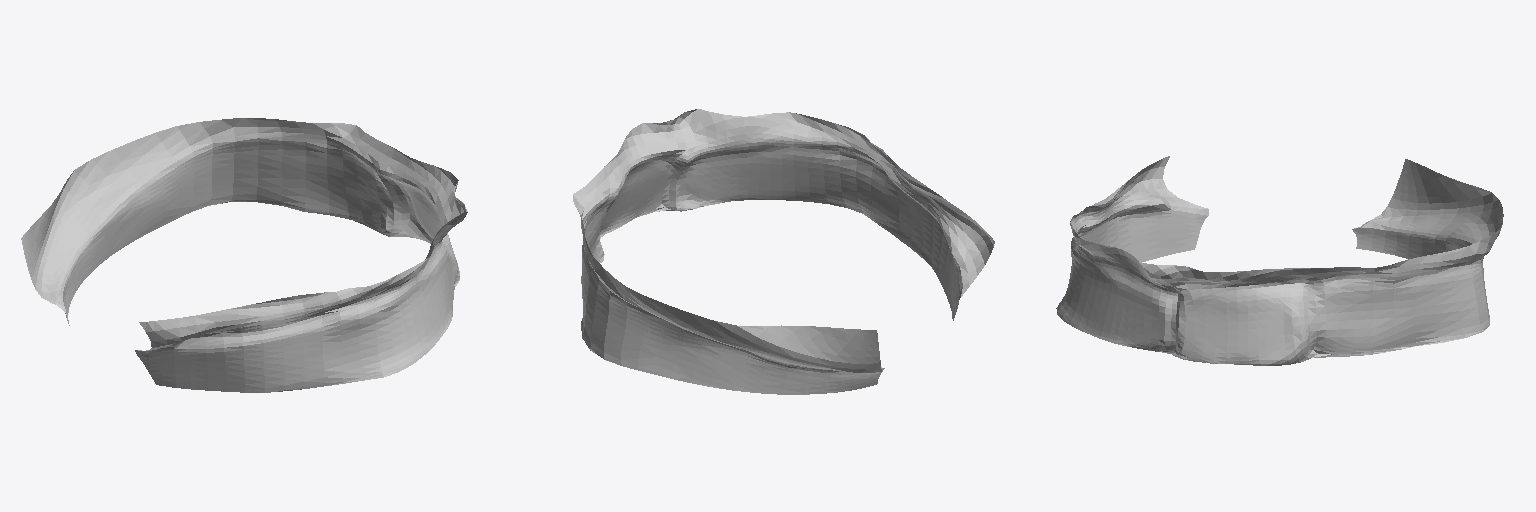
The model's file is ceinture.obj.
The picture shows the model from 3 angles: view 1: azimuth 30°, elevation 25°; view 2: azimuth 150°, elevation 25°; view 3: azimuth 270°, elevation 25°; orthographic projection.
Parts seen in each view (by area): view 1: 15548_French_Horseman_v1.001_15548_French_Horseman_v1.042, 15548_French_Horseman_v1.016_15548_French_Horseman_v1.034; view 2: 15548_French_Horseman_v1.001_15548_French_Horseman_v1.042, 15548_French_Horseman_v1.016_15548_French_Horseman_v1.034; view 3: 15548_French_Horseman_v1.001_15548_French_Horseman_v1.042, 15548_French_Horseman_v1.016_15548_French_Horseman_v1.034.
Part boxes in pixels (bbox=[...]): 15548_French_Horseman_v1.001_15548_French_Horseman_v1.042: bbox=[23, 118, 467, 392]; 15548_French_Horseman_v1.016_15548_French_Horseman_v1.034: bbox=[21, 236, 62, 309]; 15548_French_Horseman_v1.001_15548_French_Horseman_v1.042: bbox=[573, 109, 994, 394]; 15548_French_Horseman_v1.016_15548_French_Horseman_v1.034: bbox=[857, 330, 881, 372]; 15548_French_Horseman_v1.001_15548_French_Horseman_v1.042: bbox=[1056, 156, 1503, 365]; 15548_French_Horseman_v1.016_15548_French_Horseman_v1.034: bbox=[1362, 159, 1409, 225].
Bounding box in the file's own units: 1.22 × 0.4365 × 1.37.